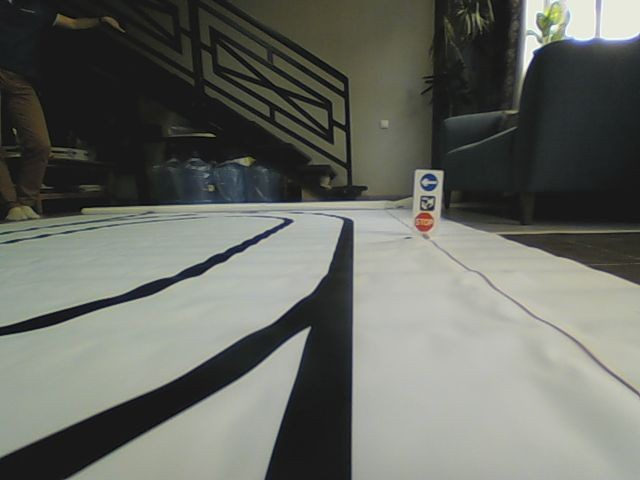Stop: (414, 211, 433, 231)
